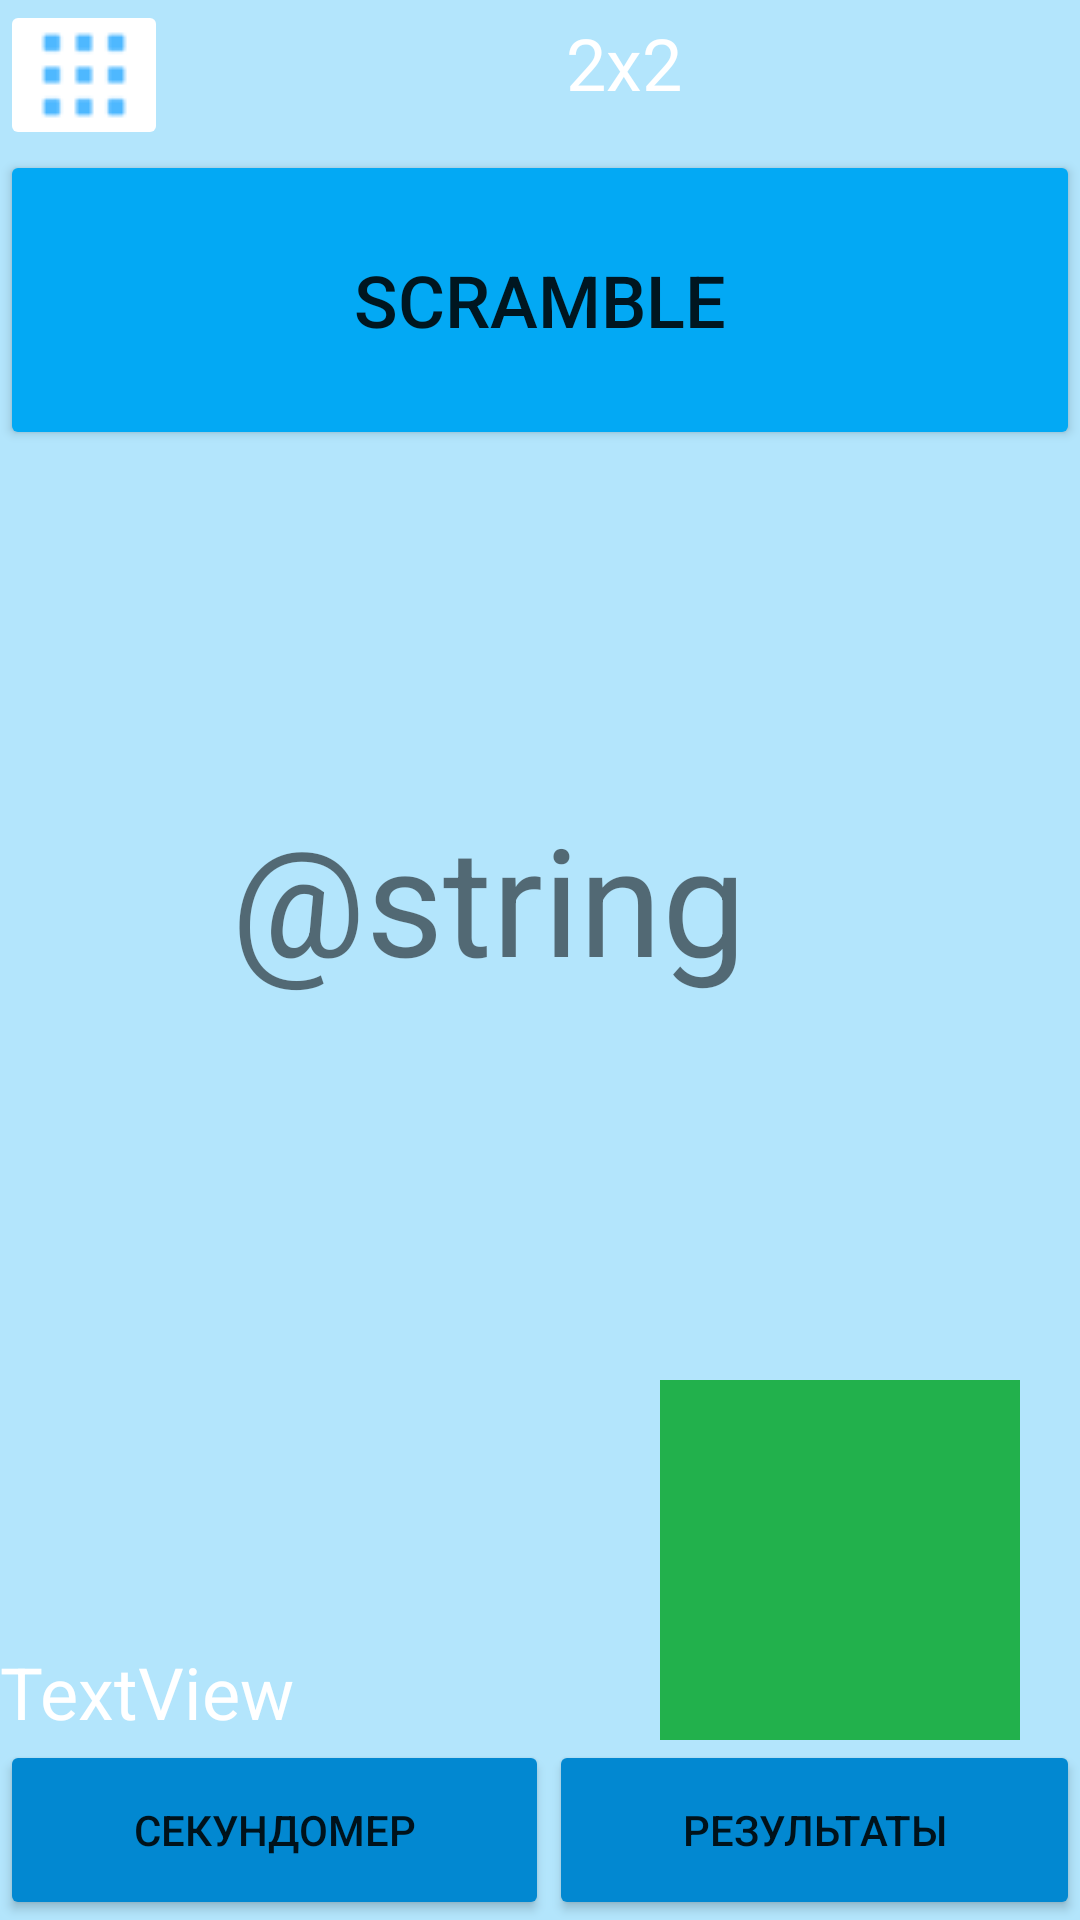

Named icons in this screenshot (1080x1920) and their bounding boxes, [left=x1, top=y1, right=x2, bottom=y2]:
menu: [left=12, top=18, right=156, bottom=132]
